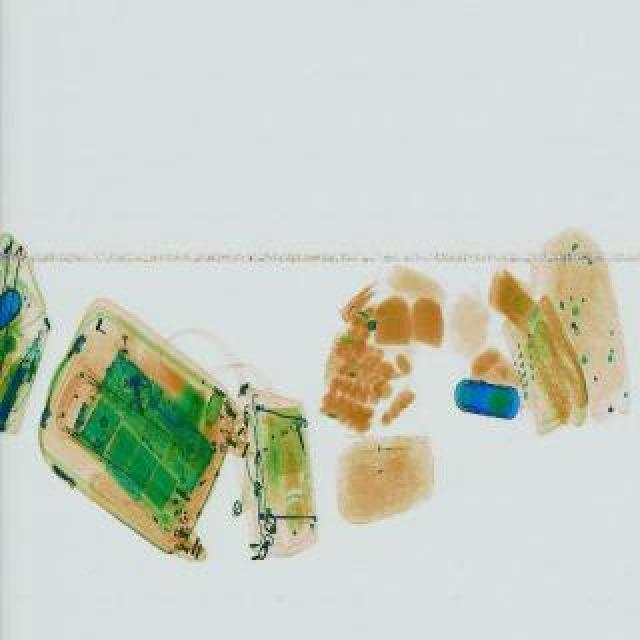pliers: (286, 412, 314, 456)
